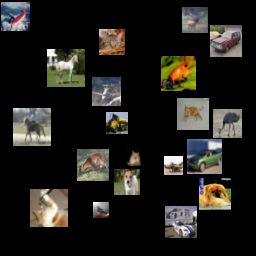airplane: (1, 2, 30, 31), (92, 77, 121, 106), (164, 156, 183, 175)
automobile: (187, 139, 222, 174), (210, 25, 242, 57), (165, 206, 197, 238)
bird: (213, 109, 242, 138), (93, 202, 109, 218)
cat: (30, 189, 68, 227), (177, 98, 209, 130), (99, 29, 125, 55), (127, 147, 146, 166)
deer: (77, 149, 109, 181), (182, 7, 208, 33)
dog: (199, 178, 231, 210), (114, 169, 140, 195)
frog: (161, 56, 196, 91)
